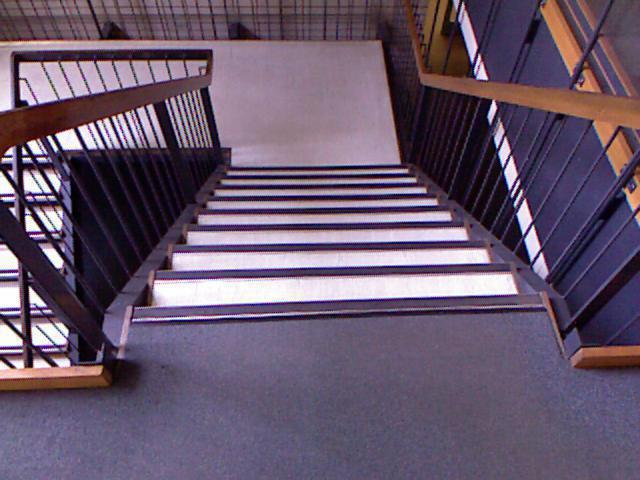Escaleras: (155, 159, 576, 299), (0, 147, 81, 409)
